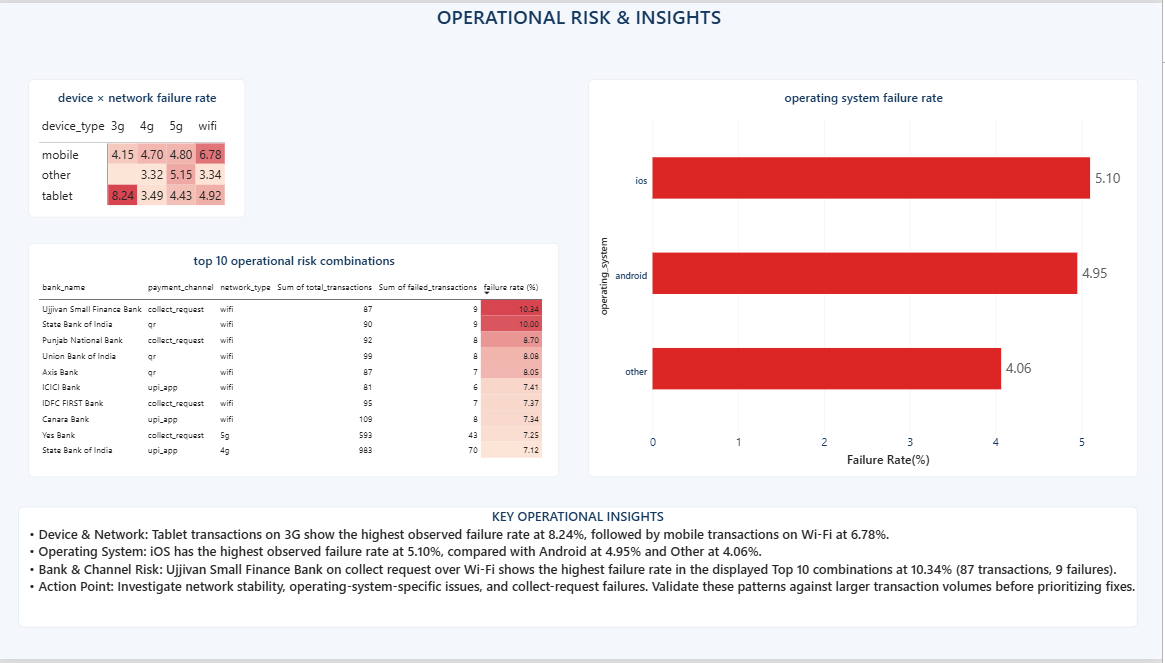

The dashboard page shown, as its layout file describes it:
{"tool":"powerbi","page":{"name":"operational risk & insights","canvas":[1920,1080],"ordinal":4},"visuals":[{"type":"textbox","box":[-0.2,0,1920.4,83.2],"z":0},{"type":"pivotTable","title":"device × network failure rate","fields":{"Columns":["public vw_device_network_performance.network_type"],"Rows":["public vw_device_network_performance.device_type"],"Values":["Avg(public vw_device_network_performance.failure_rate)"]},"box":[53.5,124.8,356.5,227.2],"z":1000},{"type":"clusteredBarChart","title":"operating system failure rate","fields":{"Category":["public vw_device_network_performance.operating_system"],"Y":["Avg(public vw_device_network_performance.failure_rate)"]},"box":[975.8,124.8,904.5,655],"z":2000},{"type":"tableEx","title":"top 10 operational risk combinations","fields":{"Values":["public vw_operational_risk_combinations.bank_name","public vw_operational_risk_combinations.payment_channel","public vw_operational_risk_combinations.network_type","Sum(public vw_operational_risk_combinations.total_transactions)","Sum(public vw_operational_risk_combinations.failed_transactions)","Avg(public vw_operational_risk_combinations.failure_rate)"]},"box":[53.5,394.3,873.3,385.4],"z":3000},{"type":"textbox","box":[37.9,828.8,1842.5,198.3],"z":3001}]}

Visuals, with their boxes in screenshot pixels (x1, y1, x2, y2), scaled from the page's 1920x1080 canvas onto the 1165x663 screenshot:
textbox: {"x1": 0, "y1": 0, "x2": 1164, "y2": 51}
"device × network failure rate" pivotTable: {"x1": 32, "y1": 77, "x2": 249, "y2": 216}
"operating system failure rate" clusteredBarChart: {"x1": 592, "y1": 77, "x2": 1141, "y2": 479}
"top 10 operational risk combinations" tableEx: {"x1": 32, "y1": 242, "x2": 562, "y2": 479}
textbox: {"x1": 23, "y1": 509, "x2": 1141, "y2": 631}
